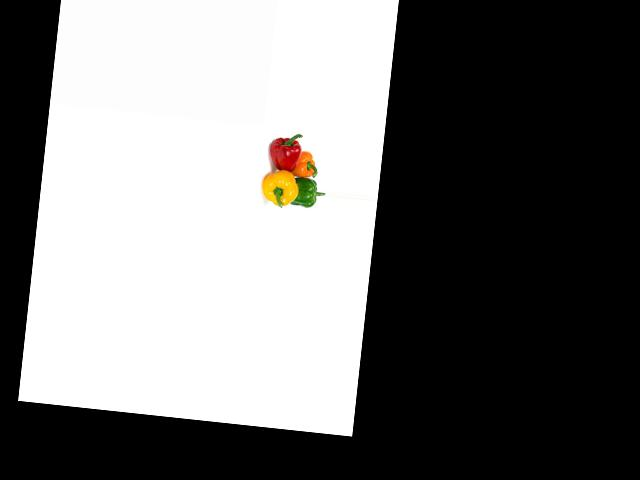bell_pepper: (258, 166, 300, 211)
